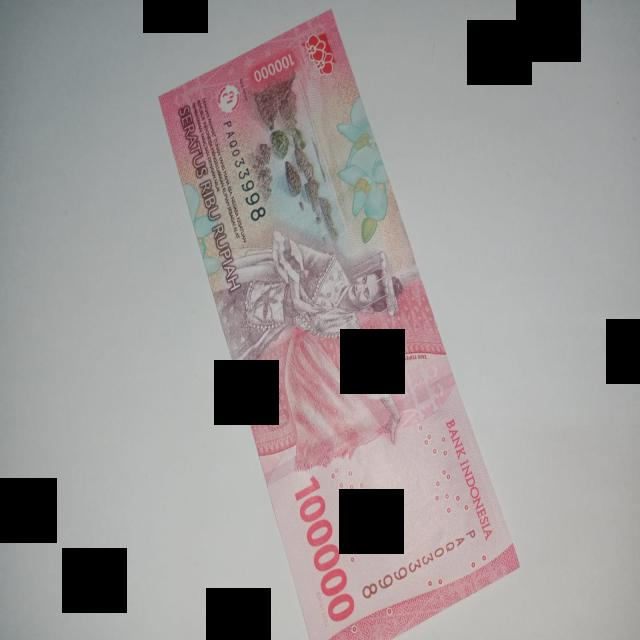seratusribu rupiah: (160, 12, 518, 638)
